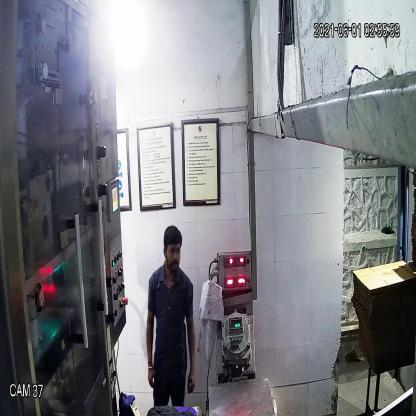no_goggles: (160, 244, 186, 260)
